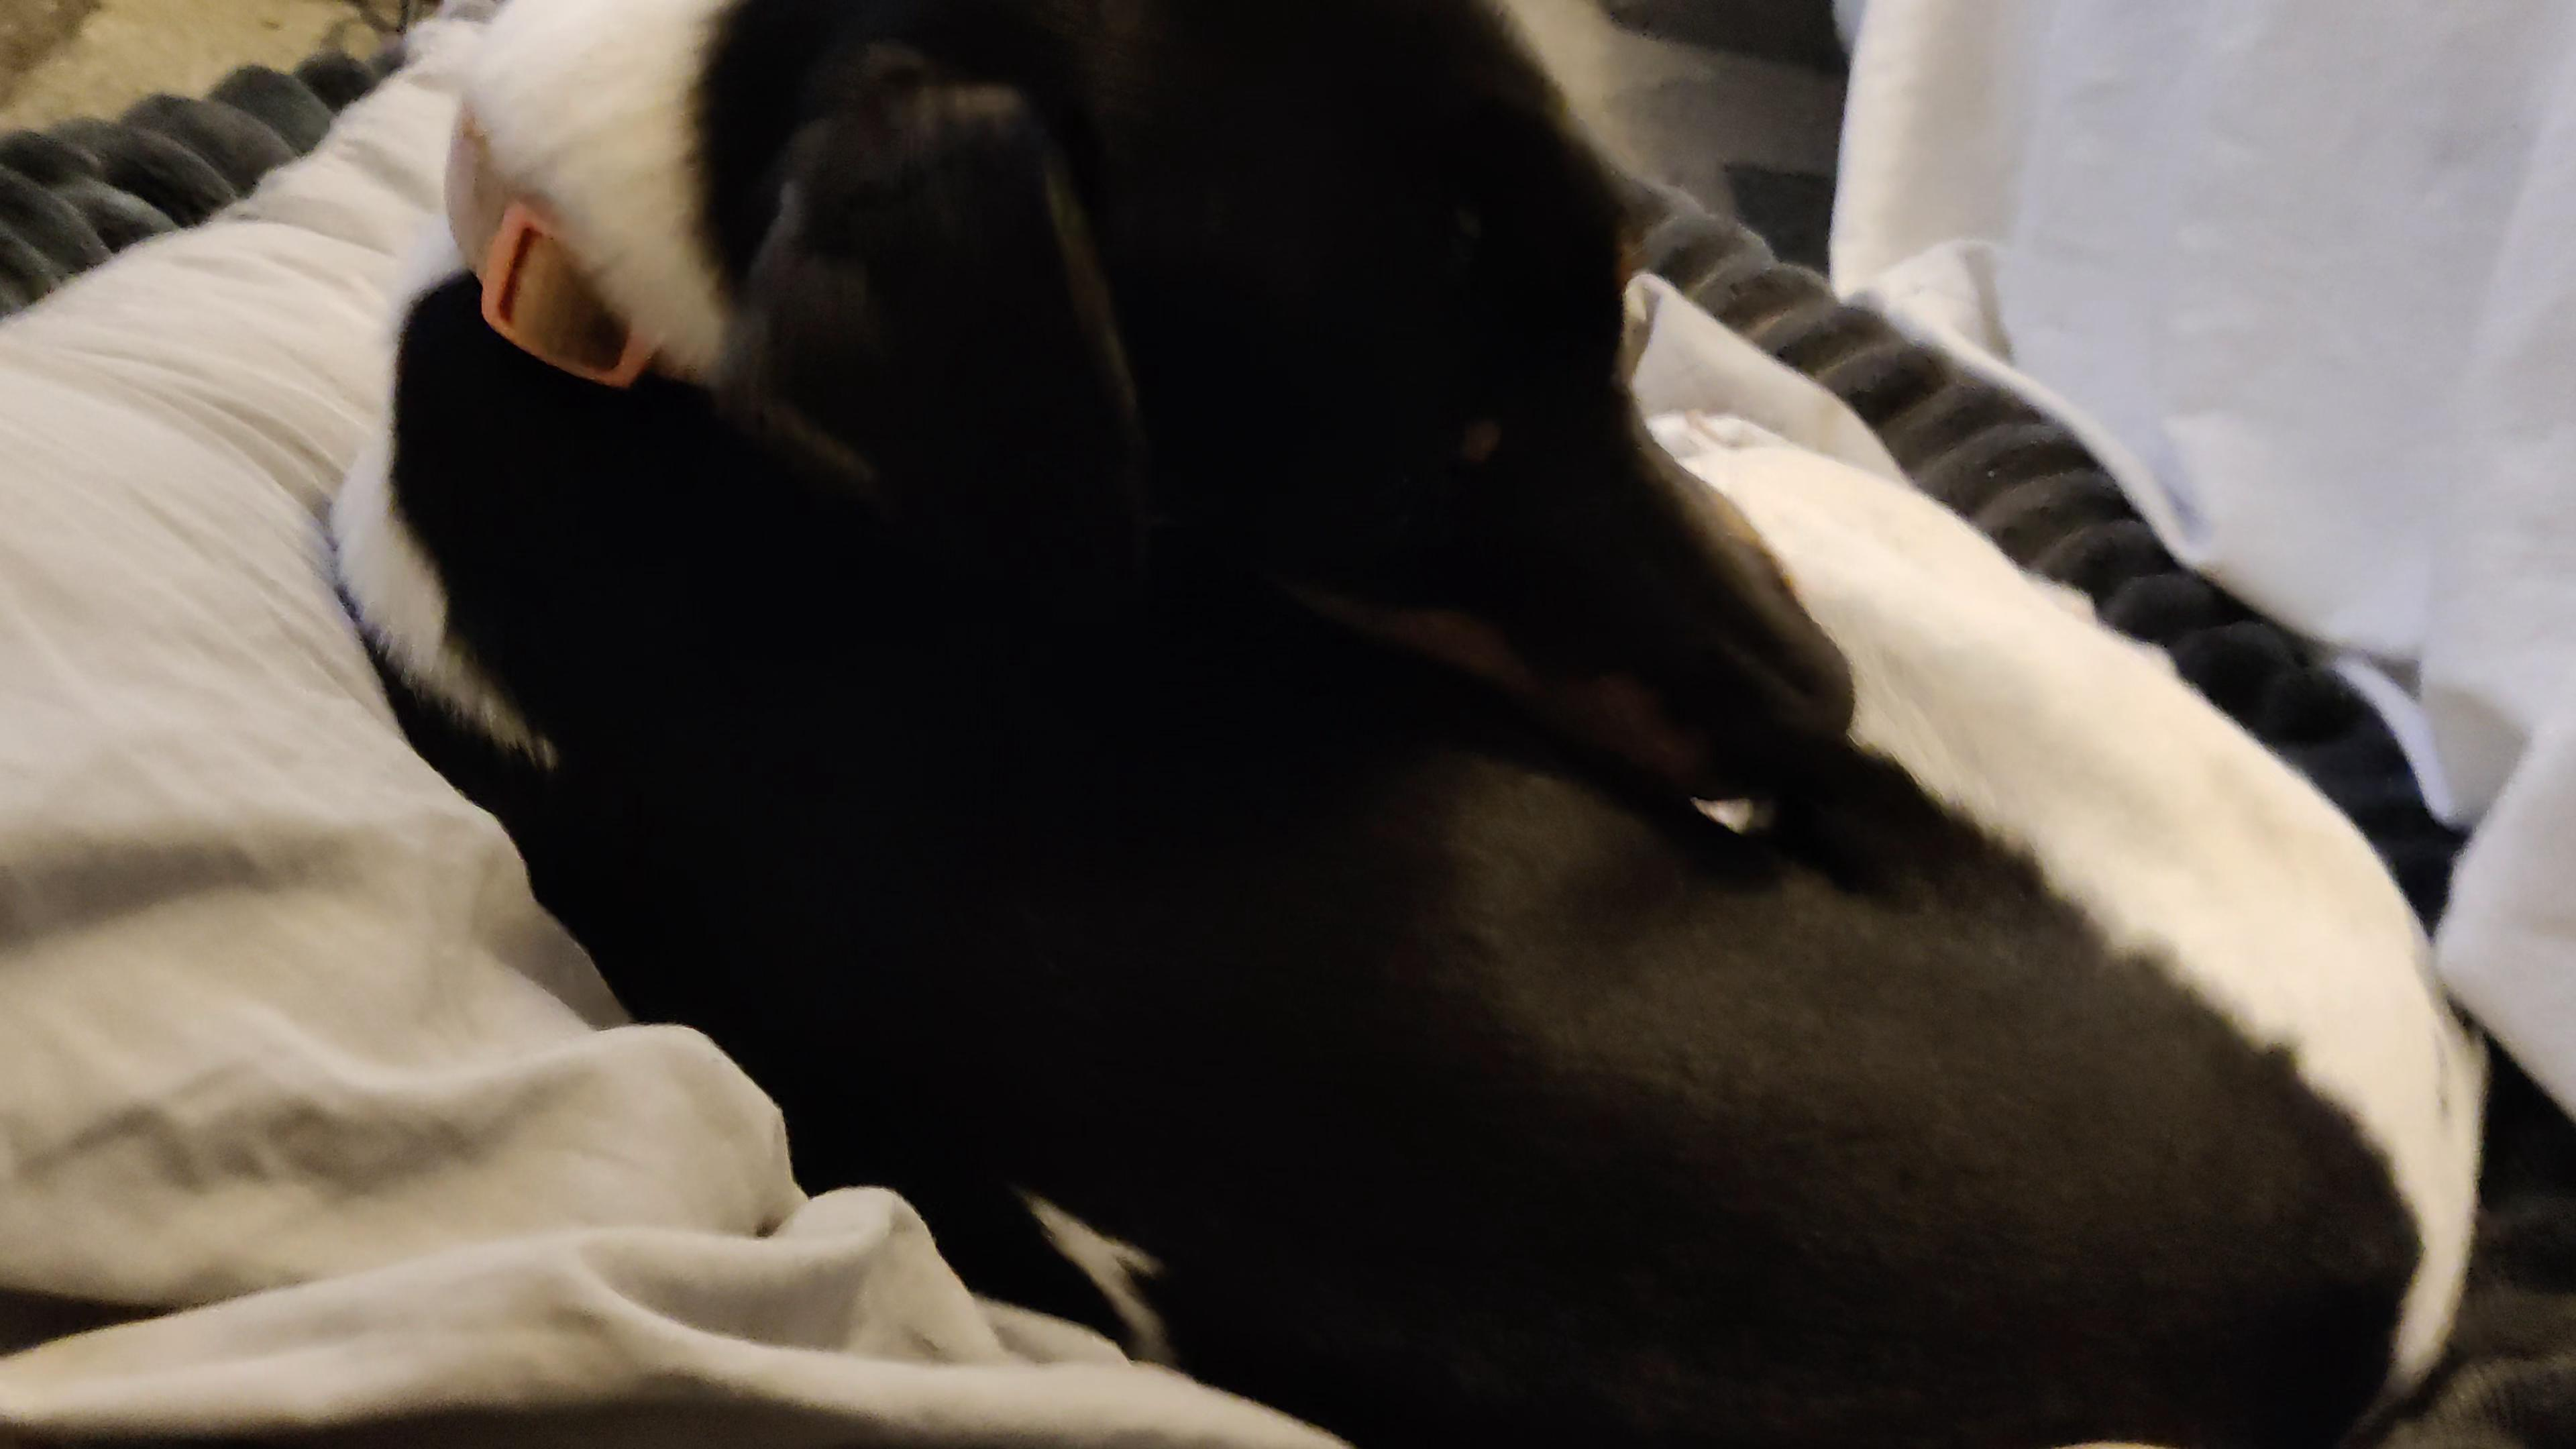Dog: (310, 0, 2503, 1449)
